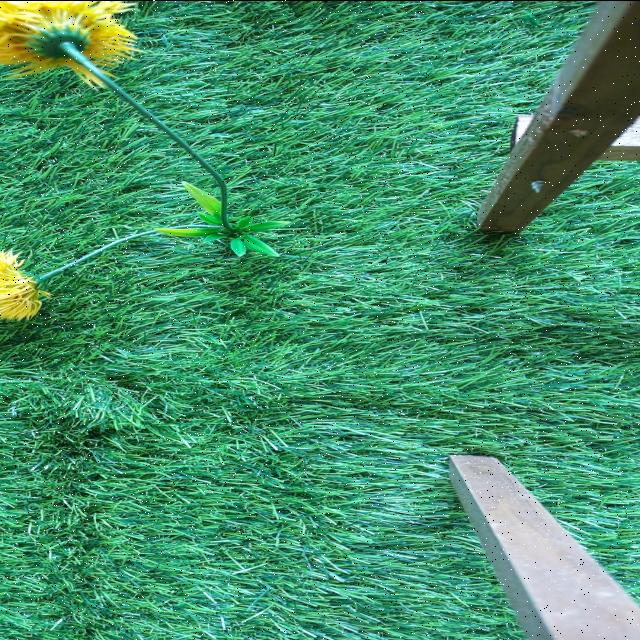base: (170, 180, 288, 260)
flower: (0, 0, 142, 82), (1, 242, 52, 322)
